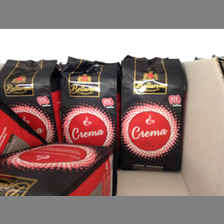coffee: (118, 56, 183, 173), (1, 144, 118, 196), (61, 56, 118, 147), (1, 60, 58, 143)
